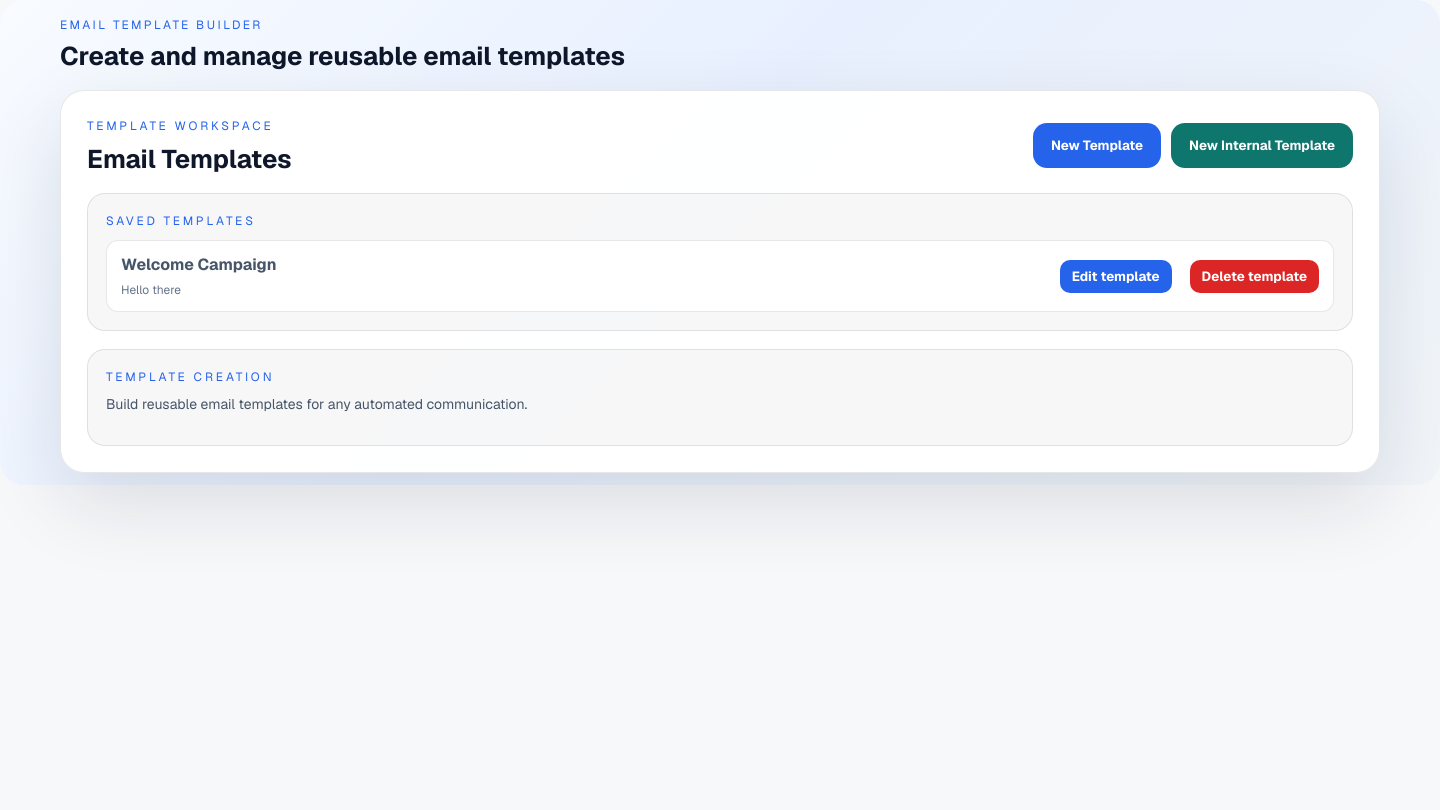
Test: AdminEmailTemplates › exposes the admin template controls for type, enable state, preview, and restore defaults
The width and height of the screenshot is (1440, 810).
Click the button "Edit template" at (1116, 276), box x1=1060 y1=260 x2=1172 y2=293
(page scrolled)
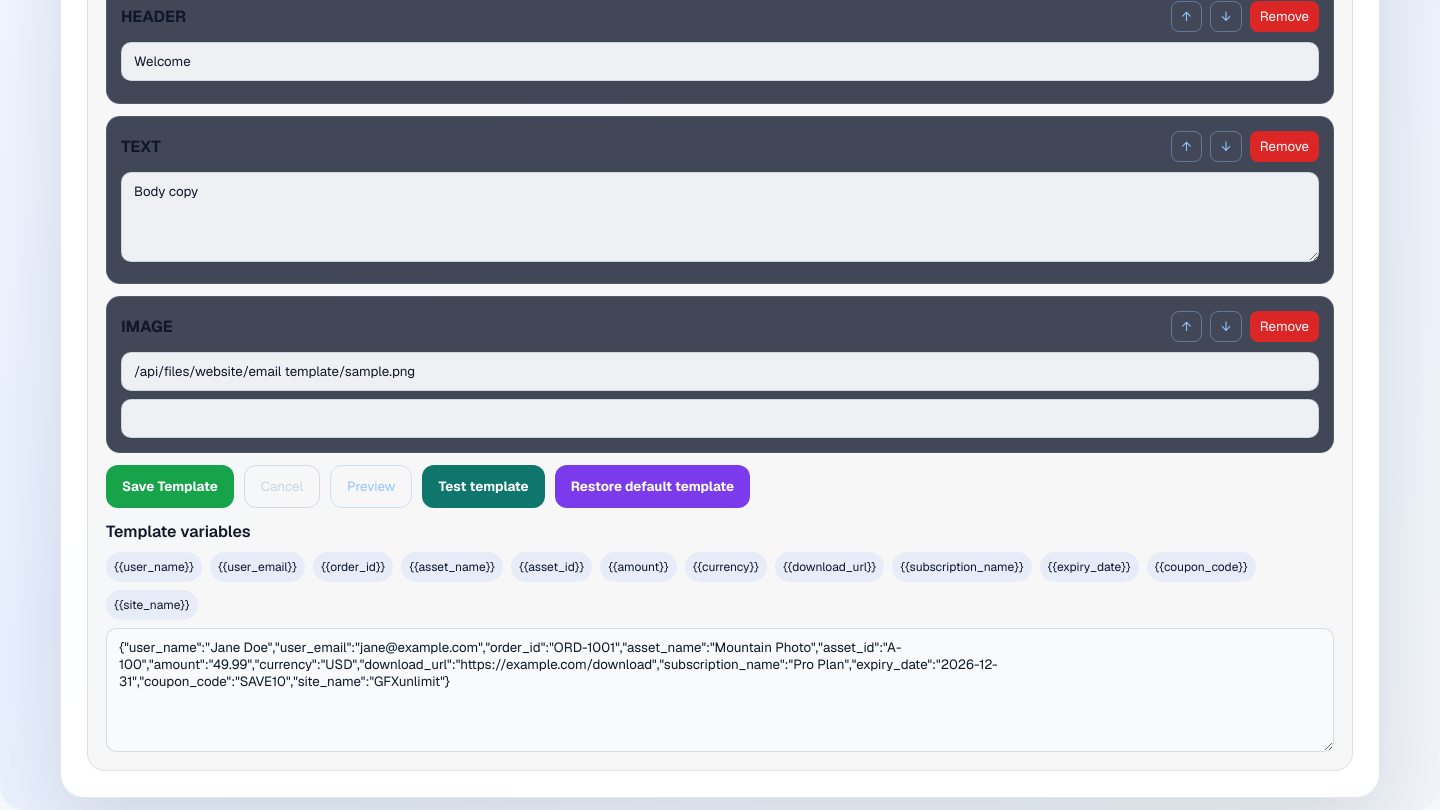
Now the button "Preview" is shown, box x1=330 y1=465 x2=412 y2=508
Now the button "Restore default template" is shown, box x1=555 y1=465 x2=750 y2=508
